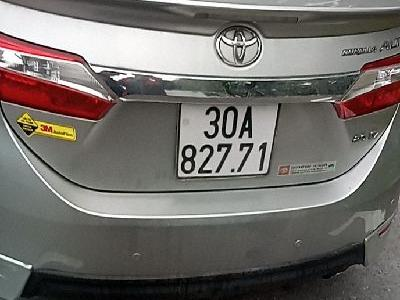car: (176, 99, 280, 178)
